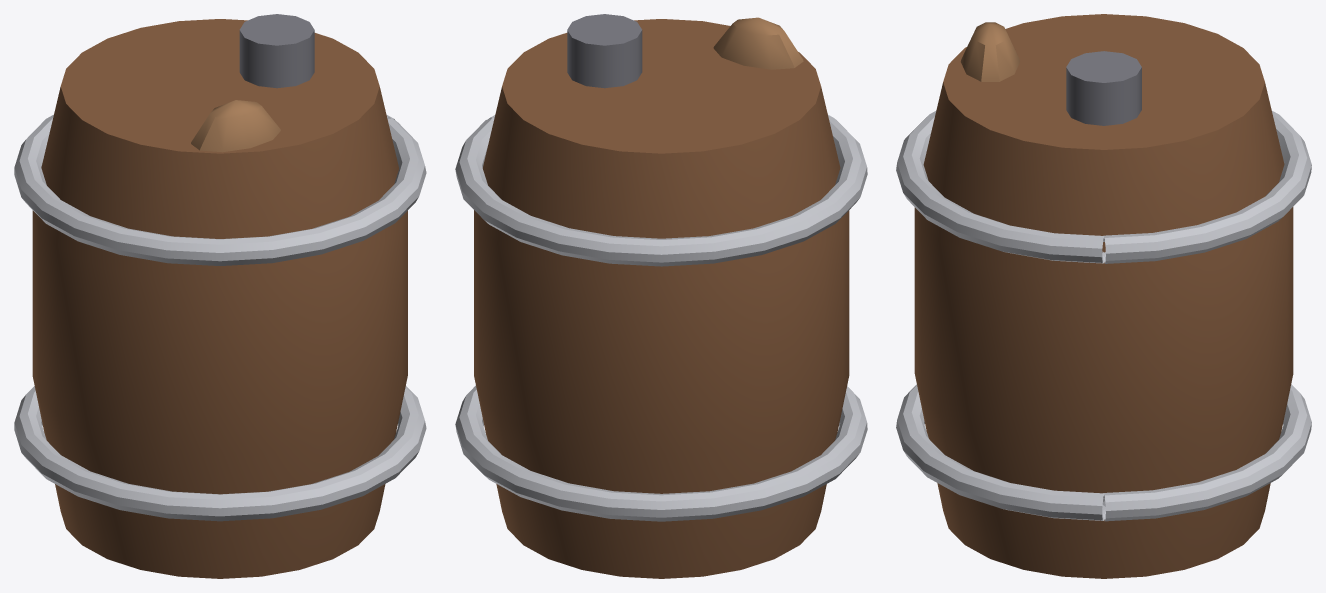
File: ITEM_ChocolateOil.fbx
3 views of the same model, side by side, from view 1: azimuth 30°, elevation 25°; view 2: azimuth 150°, elevation 25°; view 3: azimuth 270°, elevation 25° (orthographic).
Parts seen in each view (by area): view 1: ITEM_ChocolateOil; view 2: ITEM_ChocolateOil; view 3: ITEM_ChocolateOil.
Part boxes in pixels (x1,y1,x2,y2): ITEM_ChocolateOil: (14,14,426,578); ITEM_ChocolateOil: (455,14,867,578); ITEM_ChocolateOil: (896,14,1311,578).
Size of the model in its own units: 0.4392 by 0.55 by 0.4393.
